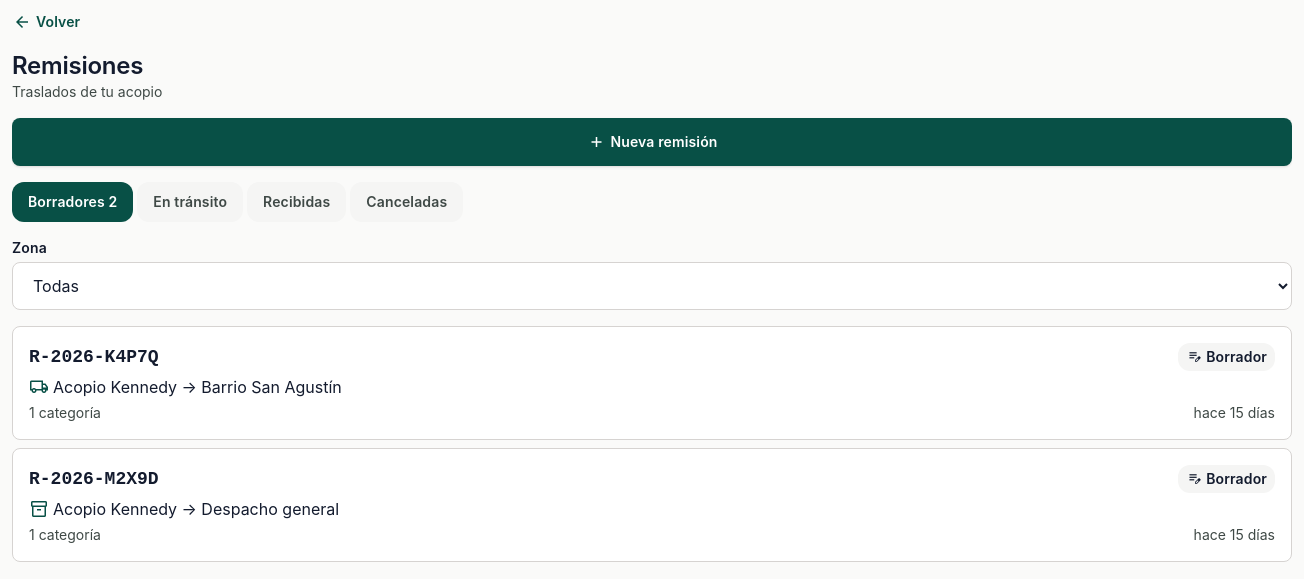
el filtro «Despacho general» deja solo las que no tienen zona
Select "Despacho general" in the dropdown labelled "Zona" at (652, 286), box 12,262 -> 1292,310
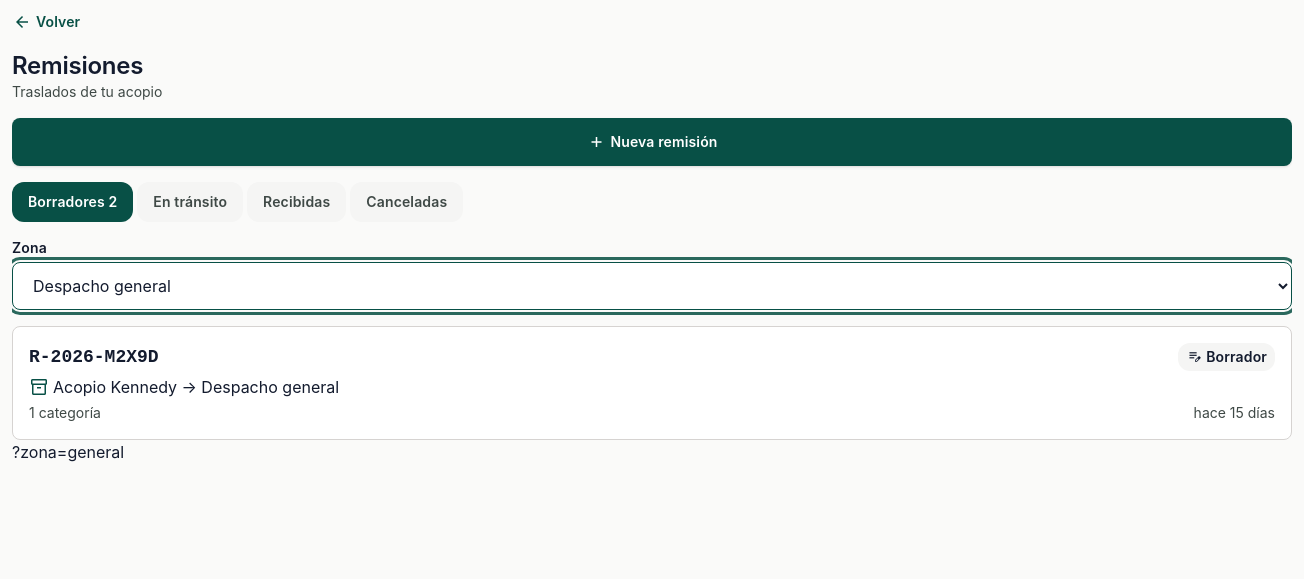
Expected: the link "R-2026-M2X9D" is shown, 12,326 -> 1292,440
Expected: the link "R-2026-K4P7Q" is gone
